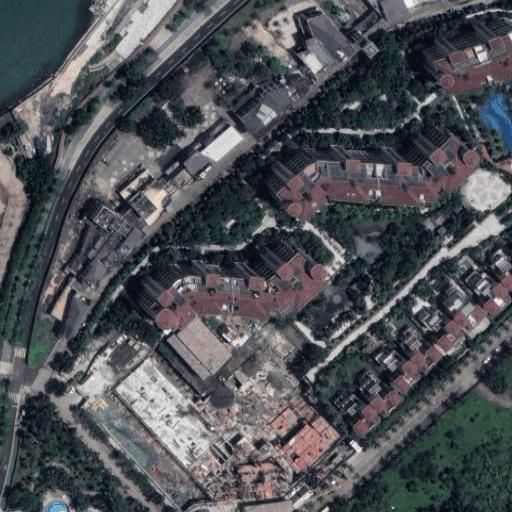building: (113, 324, 320, 502), (261, 124, 467, 212), (131, 242, 313, 321), (423, 17, 512, 85), (71, 324, 143, 398), (276, 414, 340, 475), (294, 9, 351, 75), (176, 315, 233, 375), (49, 277, 97, 335), (233, 80, 287, 128), (167, 333, 212, 382), (194, 120, 239, 164), (419, 305, 463, 350), (68, 222, 106, 273), (463, 264, 506, 308), (441, 286, 483, 328), (355, 373, 395, 413), (334, 392, 373, 433), (395, 327, 434, 366), (85, 199, 123, 234), (377, 349, 412, 387), (276, 62, 311, 96), (347, 8, 383, 41), (486, 245, 512, 287), (120, 169, 152, 201), (239, 495, 289, 512), (139, 178, 168, 207), (127, 190, 155, 219), (81, 256, 108, 284), (117, 203, 142, 229), (180, 149, 204, 173), (167, 164, 188, 185), (155, 173, 174, 192), (125, 230, 143, 248), (362, 42, 378, 58), (165, 159, 180, 175)
